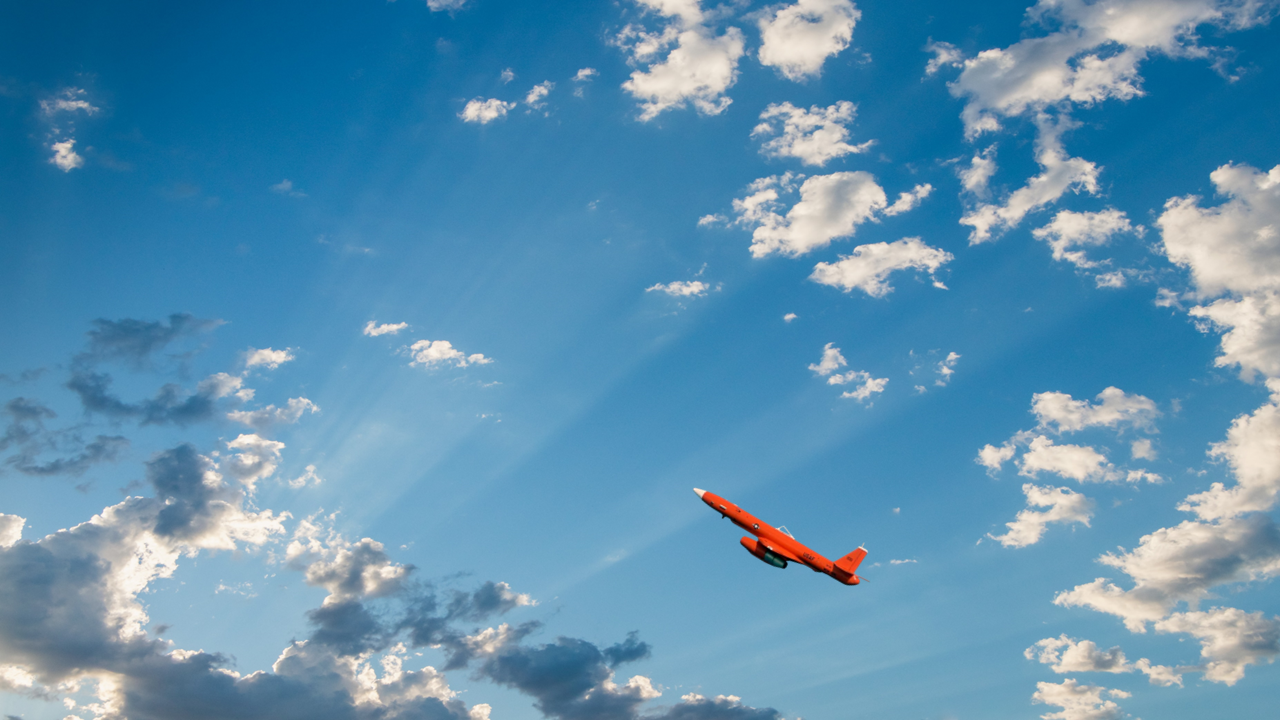military drone: (693, 487, 870, 585)
